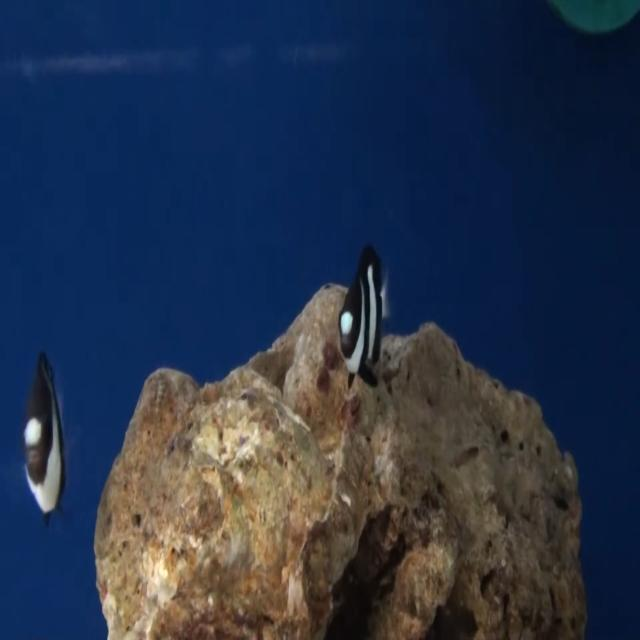ThreeStripedDamselfish: (21, 353, 67, 521), (339, 246, 387, 389)
